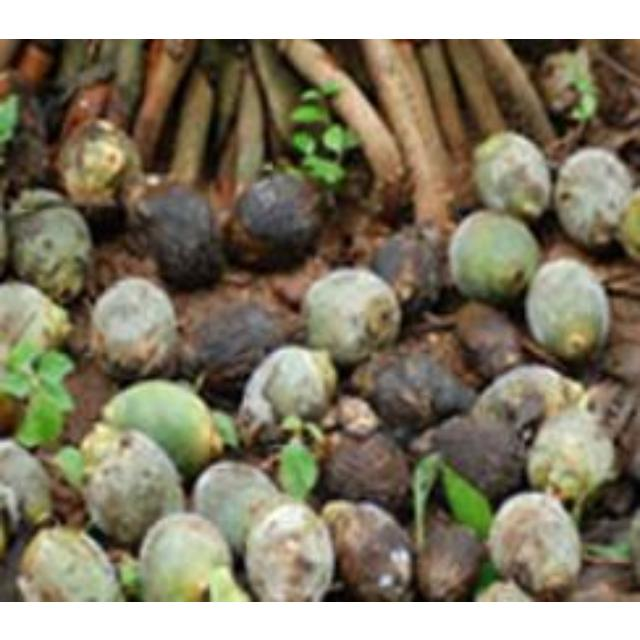damaged: (185, 298, 303, 397), (103, 378, 220, 476), (84, 432, 186, 544), (128, 182, 226, 292), (222, 170, 326, 272), (486, 491, 582, 599), (527, 404, 617, 518), (364, 351, 476, 439), (242, 500, 338, 602), (322, 498, 418, 600), (90, 276, 182, 382), (56, 118, 148, 222), (424, 413, 528, 503), (6, 191, 92, 299), (237, 347, 337, 439), (136, 512, 236, 602), (526, 258, 610, 364), (448, 210, 540, 304), (193, 461, 284, 553), (300, 275, 402, 357), (16, 526, 126, 602), (554, 147, 634, 249), (321, 428, 415, 512), (368, 226, 448, 320), (472, 130, 552, 220), (473, 364, 577, 428), (1, 282, 72, 370), (414, 515, 488, 599), (449, 300, 525, 380), (1, 438, 55, 532), (538, 45, 598, 122), (1, 122, 54, 200), (79, 422, 125, 472)
